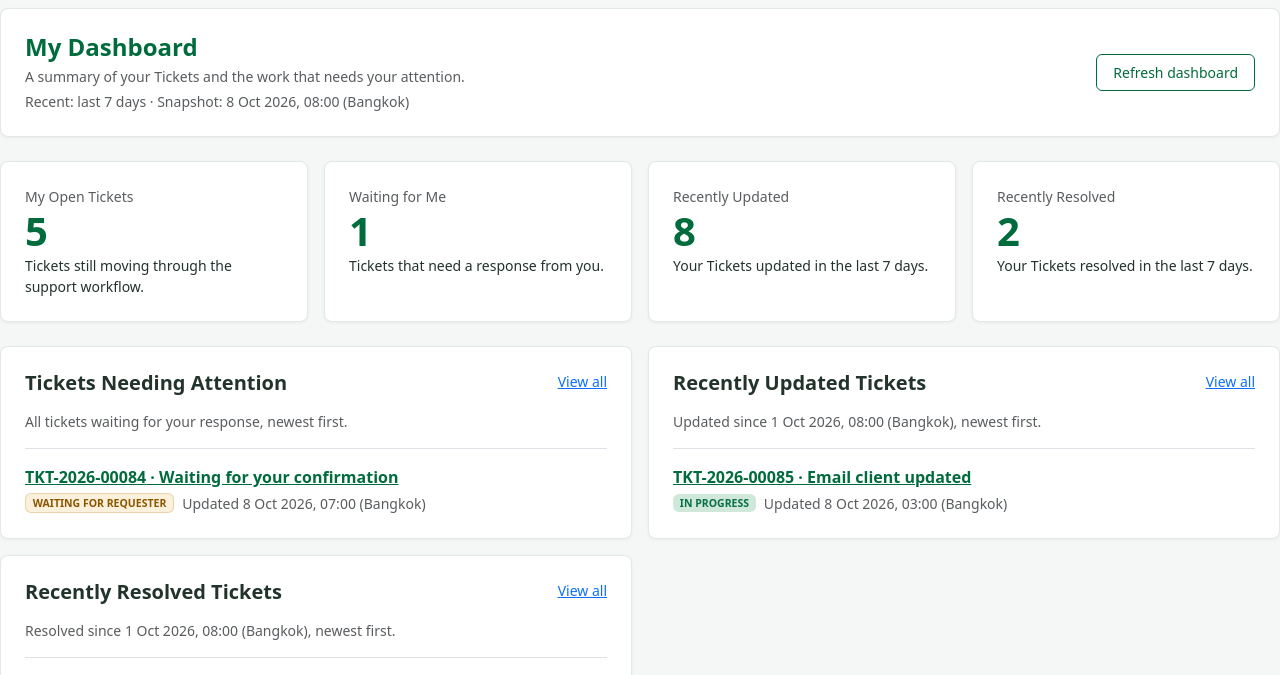
Test: RequesterDashboard (C4-02, AC-11, AC-13, AC-18) › labels a retained snapshot stale on safe failure and supports retry
Step 1. Click the button "Refresh dashboard" → [1176, 72], box [1096,54,1255,91]
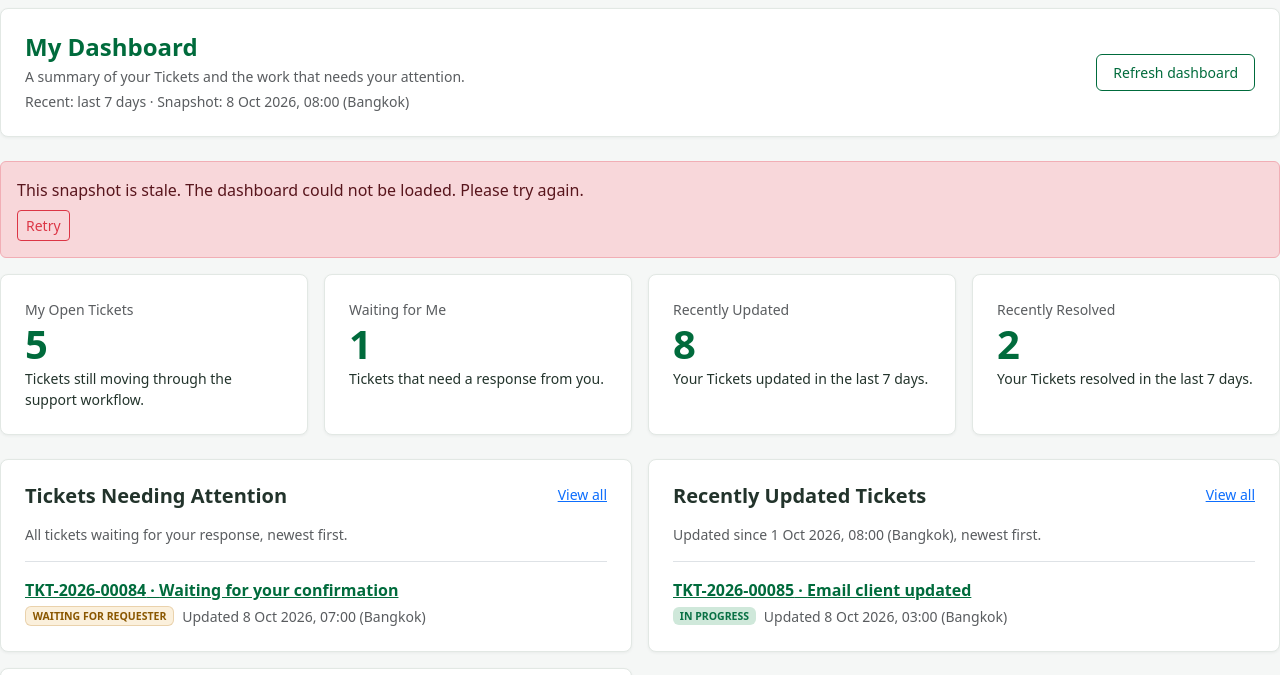
expect the link with aria-label "My Open Tickets: 5" is shown: met, box [0,274,308,435]
expect the message shows "snapshot is stale": met, box [17,179,185,201]
Step 2. Click the button "Retry" → [43, 225], box [17,210,70,241]
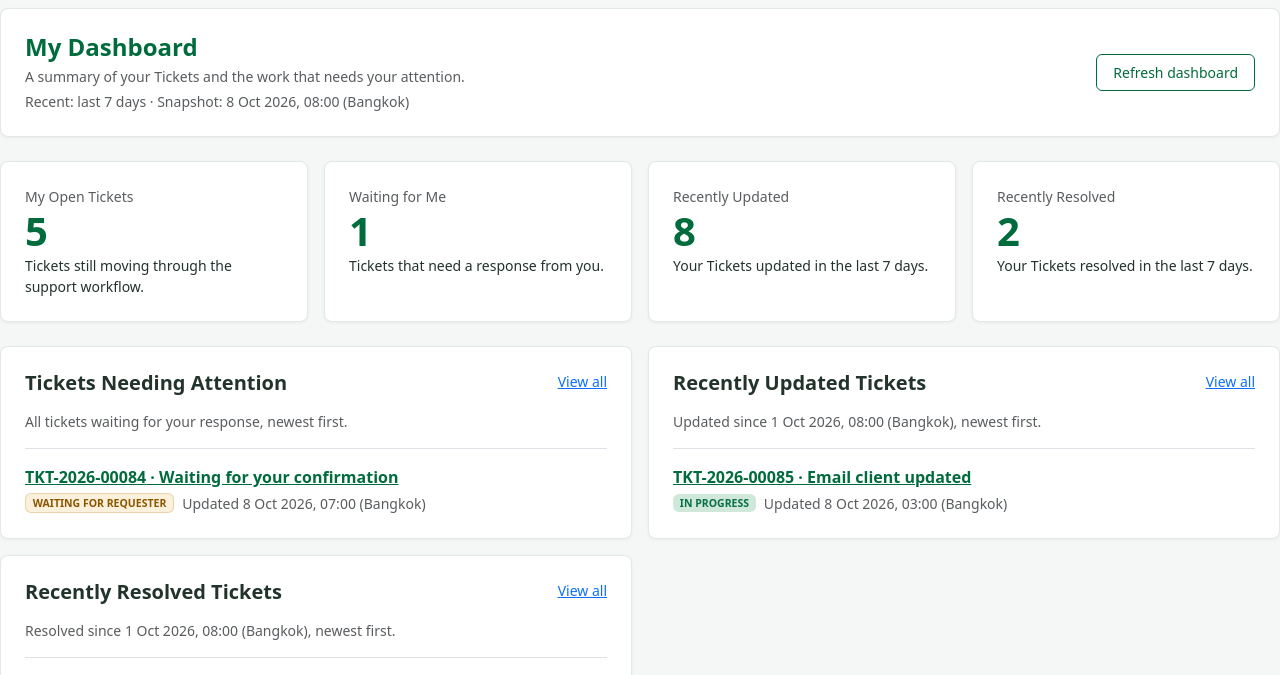
expect the message is gone: met
